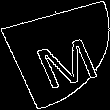M_N: (17, 23, 93, 87)
